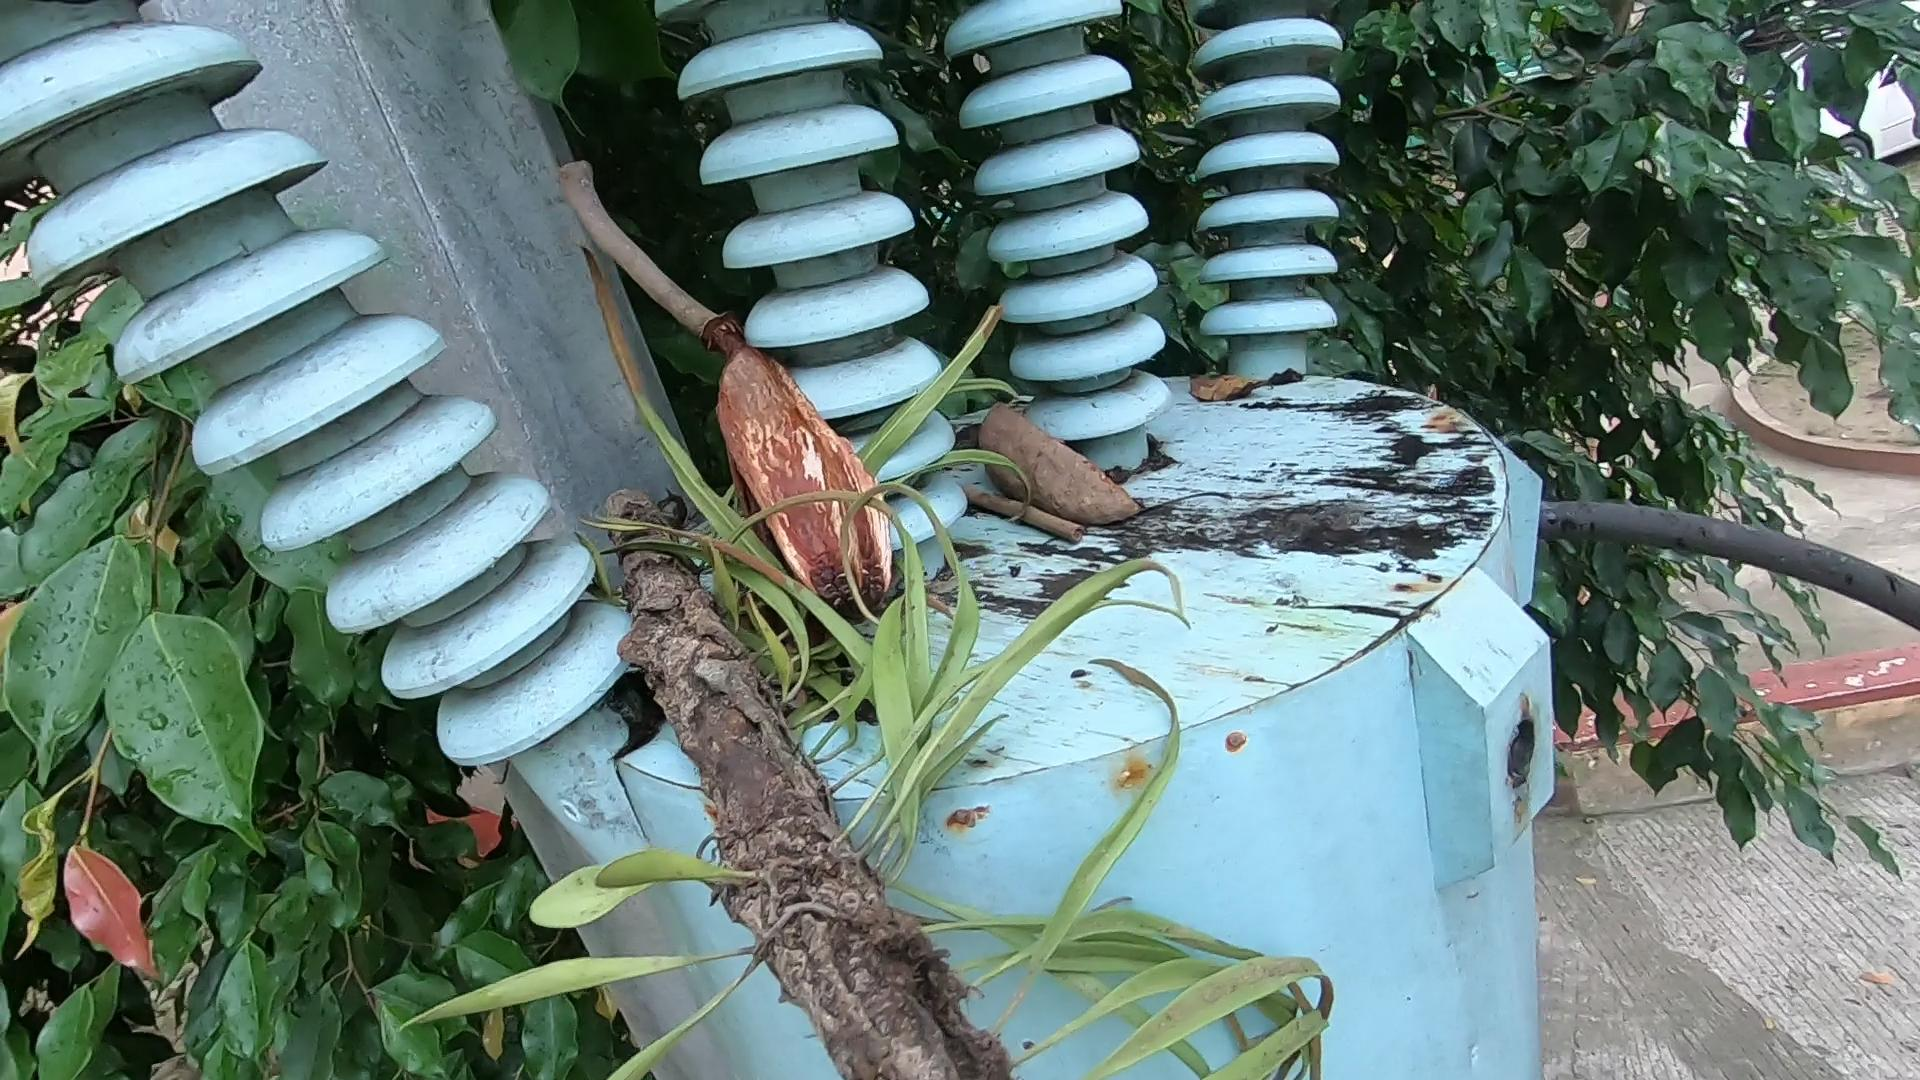branch with leaves: (615, 487, 1342, 1080)
leaf: (1172, 367, 1356, 417)
mahogany fruit: (982, 380, 1216, 574), (694, 340, 866, 530)
tree branch: (558, 157, 729, 349), (971, 471, 1106, 560)
